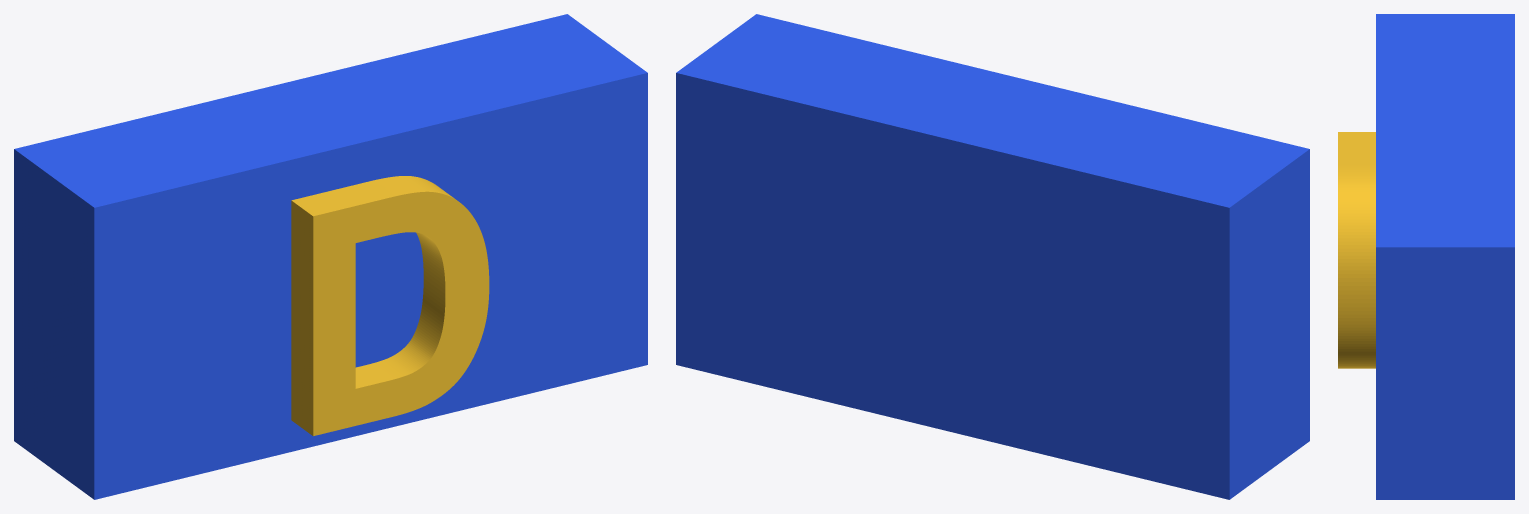
3 renders of one model, left to right at view 1: azimuth 30°, elevation 25°; view 2: azimuth 150°, elevation 25°; view 3: azimuth 270°, elevation 25°, orthographic. The views are drawn at different scales.
Visible parts, largest first — view 1: Cube.001; view 2: Cube.001; view 3: Cube.001.
Boxes of the visible parts, x1=… form: Cube.001: x1=14, y1=14, x2=647, y2=499; Cube.001: x1=676, y1=14, x2=1309, y2=499; Cube.001: x1=1338, y1=14, x2=1514, y2=499.
Size of the model in its own units: 1.32 by 0.6639 by 0.421.
